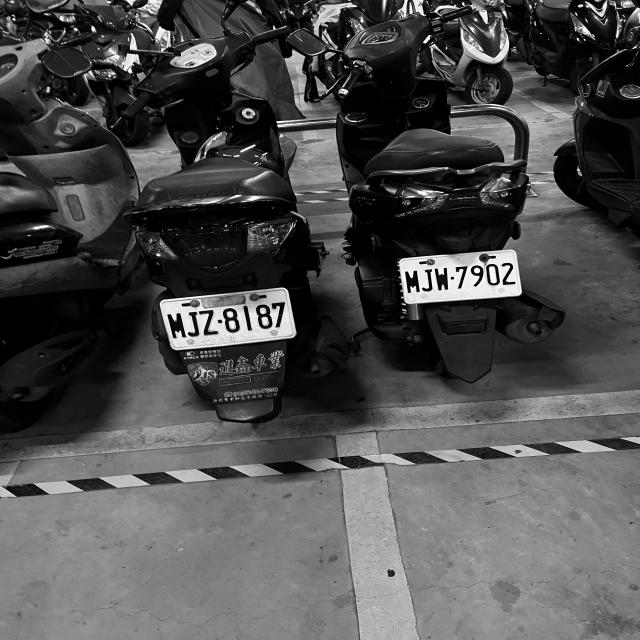-: (217, 318, 223, 324)
0: (484, 263, 500, 287)
1: (242, 305, 254, 331)
2: (501, 262, 516, 286)
7: (271, 301, 289, 328), (455, 266, 469, 288)
8: (221, 306, 244, 334), (254, 303, 274, 330)
9: (470, 264, 484, 288)
J: (184, 310, 202, 338), (420, 268, 435, 293)
M: (166, 311, 187, 340), (403, 269, 421, 294)
W: (433, 267, 450, 292)
Z: (198, 308, 220, 336)
bbb-: (450, 276, 455, 280)
plate: (160, 288, 295, 349), (400, 252, 522, 303)
